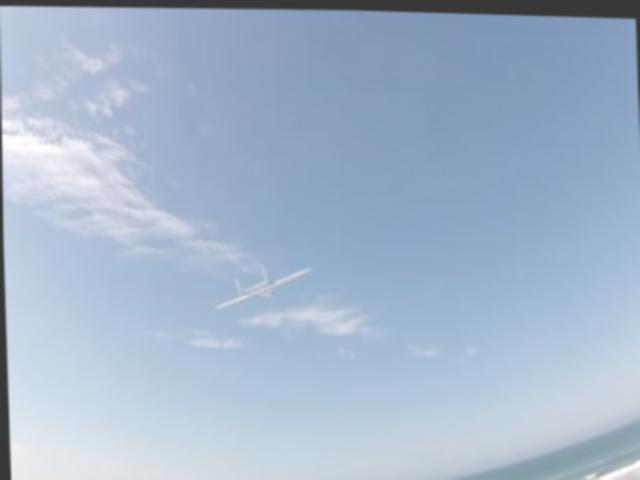uav: (209, 254, 317, 320)
